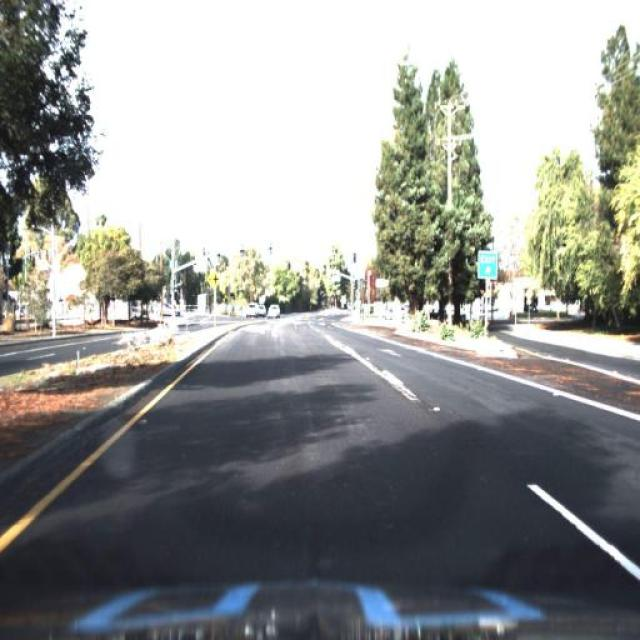car: (150, 298, 186, 320), (380, 304, 404, 322), (244, 296, 261, 320), (266, 295, 280, 323), (256, 300, 266, 320)
